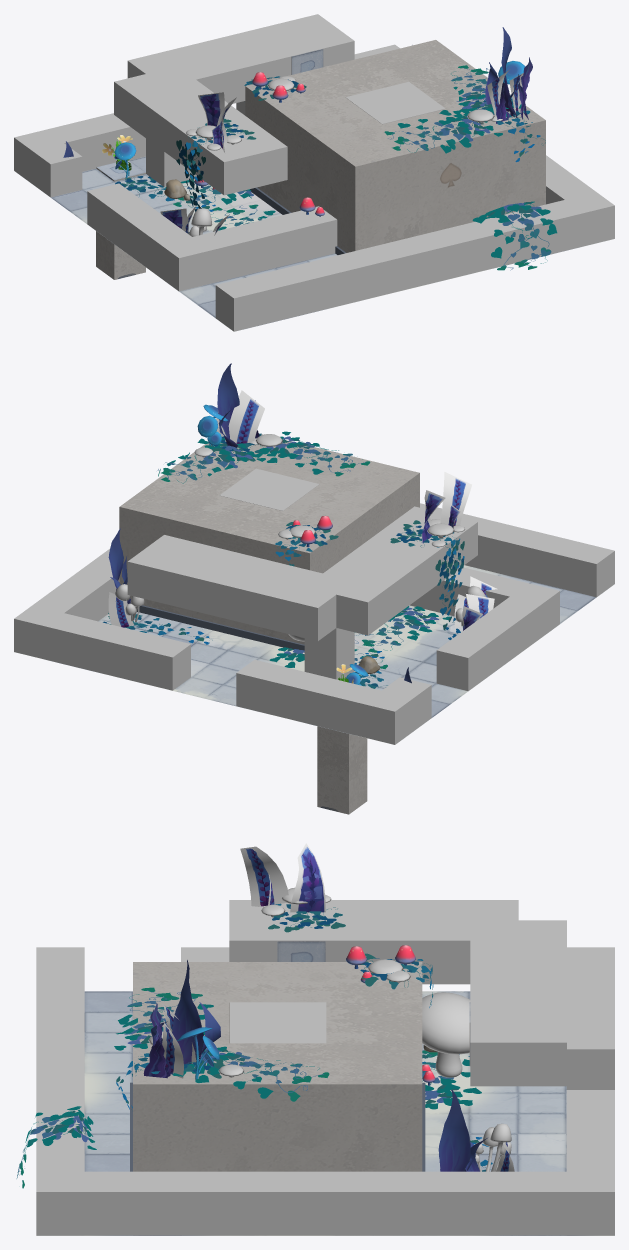
Rendered from Map_05.FBX.
3 renders of one model, top to bottom at view 1: azimuth 30°, elevation 25°; view 2: azimuth 150°, elevation 25°; view 3: azimuth 270°, elevation 25°, orthographic. The views are drawn at different scales.
Visible parts, largest first — view 1: Plane_01, interactive_01, Plane_00, Cli_leaf, Plane_02, interactive_03, Cli_leaf_004, Shiitake, Cli_leaf_013, interactive_03_ncl1_1, Plant_002, Cli_leaf_003 (+1 smaller); view 2: Plane_01, interactive_01, Plane_00, Cli_leaf, interactive_03, Plane_02, Cli_leaf_004, Cli_leaf_013, Plant_006, Shiitake, Plant_004, Plane046; view 3: Plane_01, interactive_01, Plane_00, Plane_02, Cli_leaf, Shiitake_01, Plant_004, Cli_leaf_013, Plane019, Plant_002, Plane046, Cli_leaf_004 (+6 smaller).
Boxes of the visible parts, box(x1,y1,x2,y2) form: Plane_01: box(14, 14, 614, 331); interactive_01: box(245, 40, 545, 254); Plane_00: box(19, 156, 613, 331); Cli_leaf: box(115, 118, 557, 270); Plane_02: box(346, 82, 445, 124); interactive_03: box(96, 160, 145, 279); Cli_leaf_004: box(384, 109, 502, 153); Shiitake: box(186, 76, 502, 150); Cli_leaf_013: box(451, 65, 521, 113); interactive_03_ncl1_1: box(291, 49, 323, 74); Plant_002: box(198, 92, 224, 126); Cli_leaf_003: box(460, 99, 545, 162); Plane_01: box(14, 503, 614, 744); interactive_01: box(119, 434, 419, 652); Plane_00: box(14, 565, 608, 744); Cli_leaf: box(103, 520, 464, 688); interactive_03: box(317, 726, 367, 814); Plane_02: box(219, 468, 319, 510); Cli_leaf_004: box(252, 431, 370, 476); Cli_leaf_013: box(157, 438, 265, 483); Plant_006: box(225, 390, 264, 445); Shiitake: box(194, 434, 464, 547); Plant_004: box(440, 472, 471, 525); Plane046: box(217, 363, 239, 438); Plane_01: box(36, 900, 614, 1235); interactive_01: box(130, 962, 425, 1171); Plane_00: box(36, 991, 614, 1235); Plane_02: box(230, 1002, 326, 1043); Cli_leaf: box(16, 903, 492, 1188); Shiitake_01: box(422, 992, 470, 1077); Plant_004: box(240, 846, 288, 906); Cli_leaf_013: box(172, 1046, 329, 1101); Plane019: box(438, 1090, 470, 1171); Plant_002: box(290, 843, 325, 912); Plane046: box(172, 960, 204, 1069); Cli_leaf_004: box(114, 987, 213, 1050).
Bounding box in the file's own units: 3960 × 4113 × 2825.
